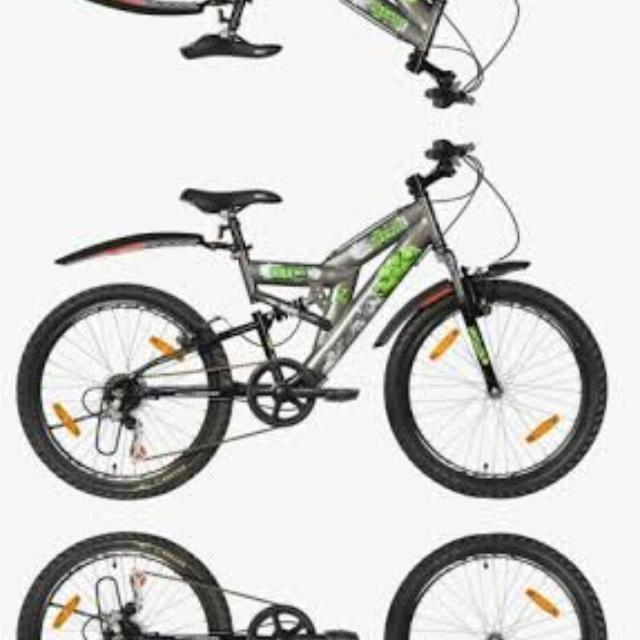obstacle: (8, 130, 616, 507), (7, 0, 616, 116), (7, 524, 616, 640)
